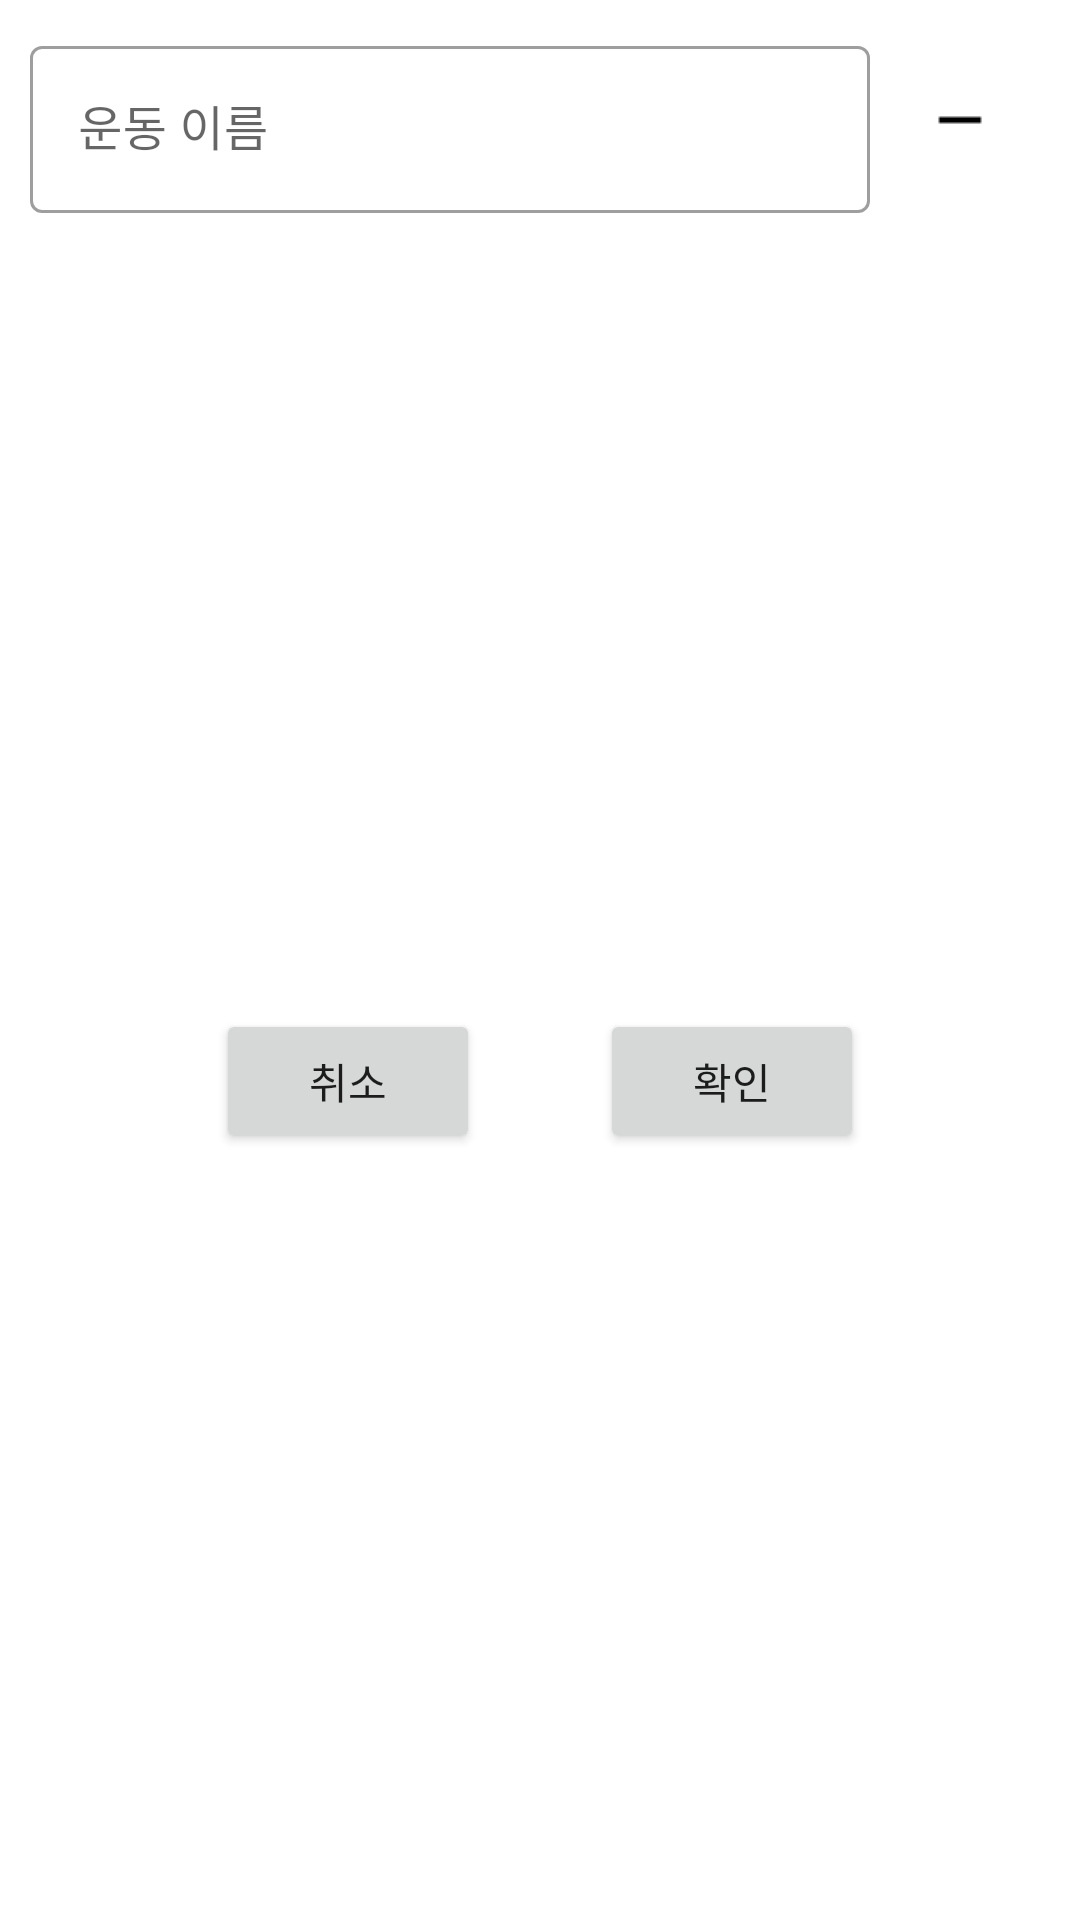

Where icons sit on this 1080 x 1920 app screen, as (x1, y1, x2, y2):
minus: (938, 116, 982, 124)
